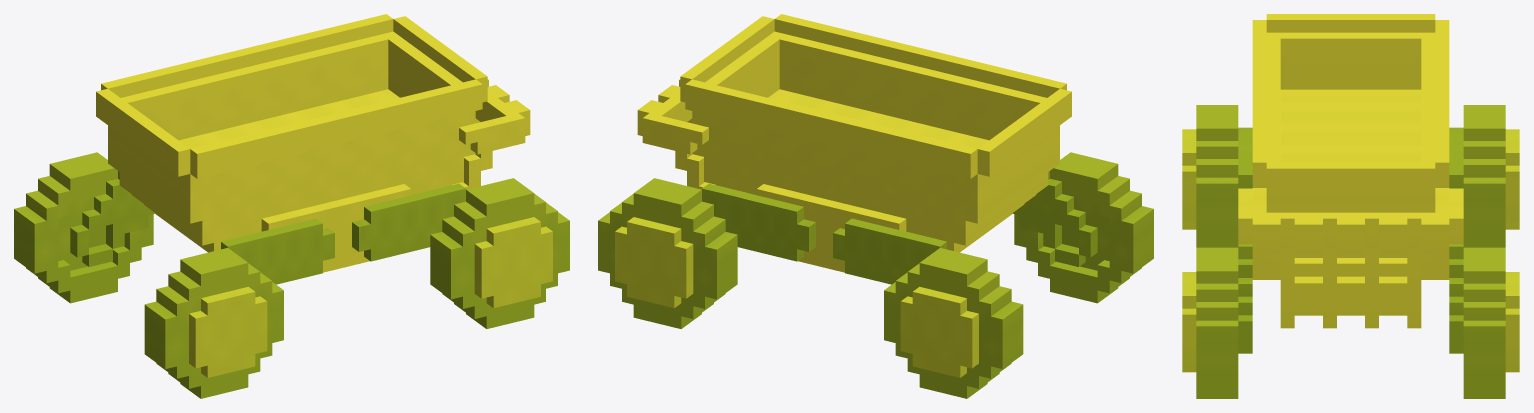
File: trolley.glb
3 views of the same model, side by side, from view 1: azimuth 30°, elevation 25°; view 2: azimuth 150°, elevation 25°; view 3: azimuth 270°, elevation 25° (orthographic). The views are drawn at different scales.
Parts seen in each view (by area): view 1: Cubo.009, Cube.014, Cube.011, Cube.009, Cube.012, Cube.015, Cube.010; view 2: Cubo.009, Cube.009, Cube.007, Cube.014, Cube.008, Cube.010, Cube.015; view 3: Cubo.009, Cube.007, Cube.011, Cube.009, Cube.014, Cube.008, Cube.012, Cube.010, Cube.015.
Part boxes in pixels (x1,y1,x2,y2): Cubo.009: (96,14,530,272); Cube.014: (144,248,283,398); Cube.011: (430,178,569,328); Cube.009: (14,152,153,303); Cube.012: (352,183,465,261); Cube.015: (221,218,334,284); Cube.010: (70,171,155,266); Cubo.009: (637,14,1071,272); Cube.009: (884,248,1023,398); Cube.007: (598,178,737,328); Cube.014: (1014,152,1153,303); Cube.008: (702,183,815,261); Cube.010: (833,218,946,284); Cube.015: (1012,171,1097,266); Cubo.009: (1238,14,1463,328); Cube.007: (1463,247,1519,398); Cube.011: (1182,247,1238,398); Cube.009: (1463,105,1519,247); Cube.014: (1182,105,1238,247); Cube.008: (1449,244,1463,353); Cube.012: (1238,244,1252,353); Cube.010: (1449,127,1463,188); Cube.015: (1238,127,1252,188).
Size of the model in its own units: 11.34 by 5.86 by 8.
1 material, 1 textured.
